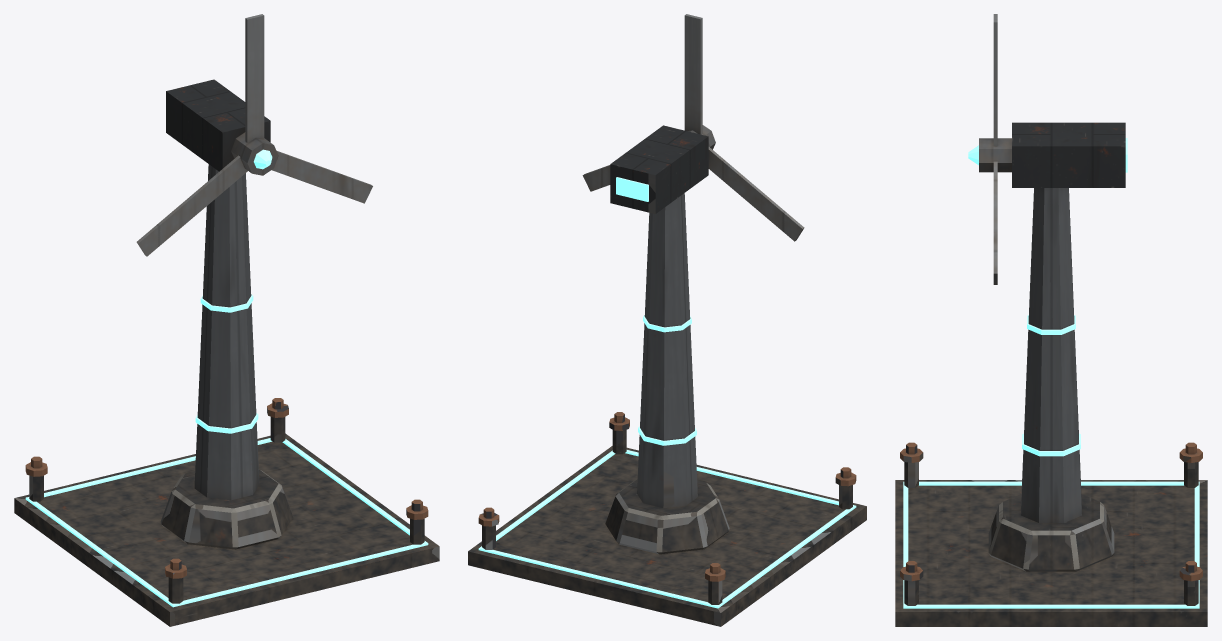
Rendered from turbina_eolica.glb.
3 views of the same model, side by side, from view 1: azimuth 30°, elevation 25°; view 2: azimuth 150°, elevation 25°; view 3: azimuth 270°, elevation 25° (orthographic). The views are drawn at different scales.
Parts seen in each view (by area): view 1: turbina_eolica_corpo, turbina_eolica_helice; view 2: turbina_eolica_corpo, turbina_eolica_helice; view 3: turbina_eolica_corpo, turbina_eolica_helice.
Part boxes in pixels (x1,y1,x2,y2): turbina_eolica_corpo: (14,79,439,626); turbina_eolica_helice: (136,14,372,256); turbina_eolica_corpo: (468,125,866,626); turbina_eolica_helice: (582,14,804,241); turbina_eolica_corpo: (895,122,1207,626); turbina_eolica_helice: (968,14,1011,284).
Bounding box in the file's own units: 1.9 × 3.64 × 1.9.
Materials: 2 (1 with a texture image).
